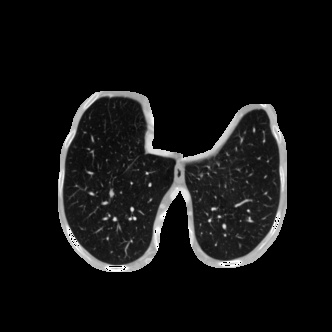PN: (108, 190, 114, 196)
